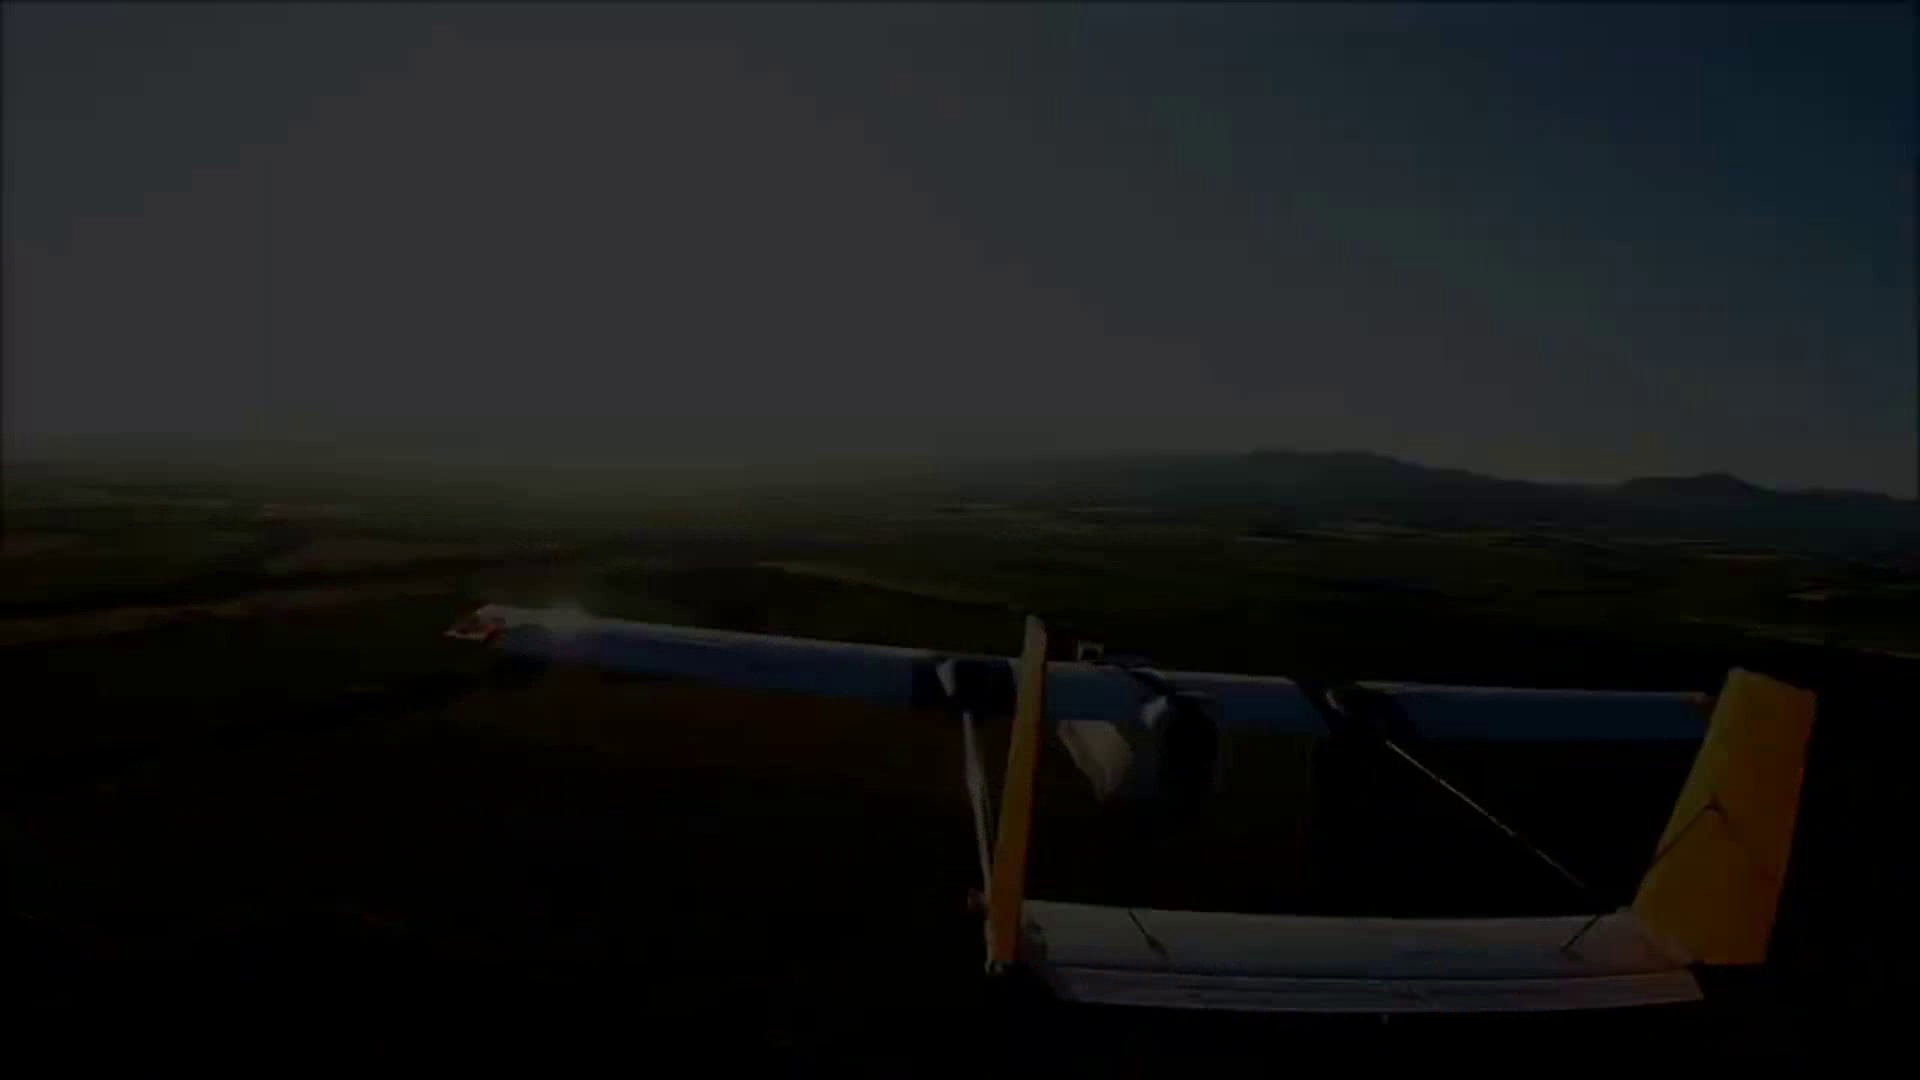airplane: (433, 601, 1890, 1034)
